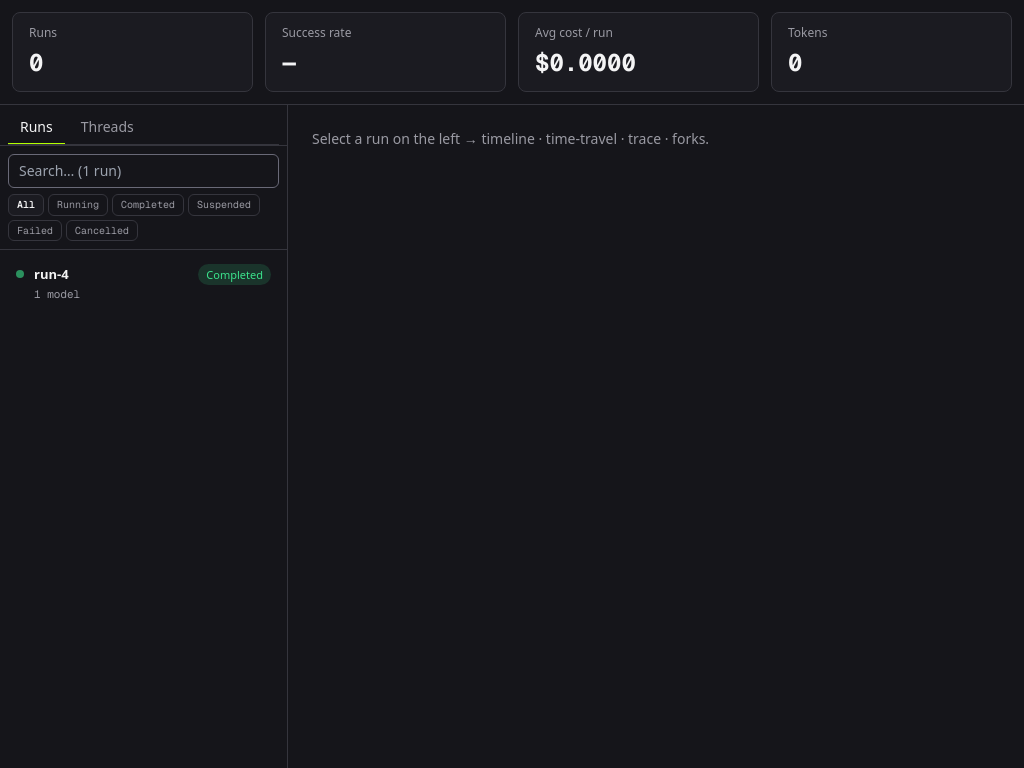
Test: Inspector — Network tab + cost details › API-11: selecting a run does NOT fetch /runs/:id/cost (Cost tab is sourced from /trace)
The width and height of the screenshot is (1024, 768).
Click the text "run-4" at (51, 274), box [34,264,69,284]
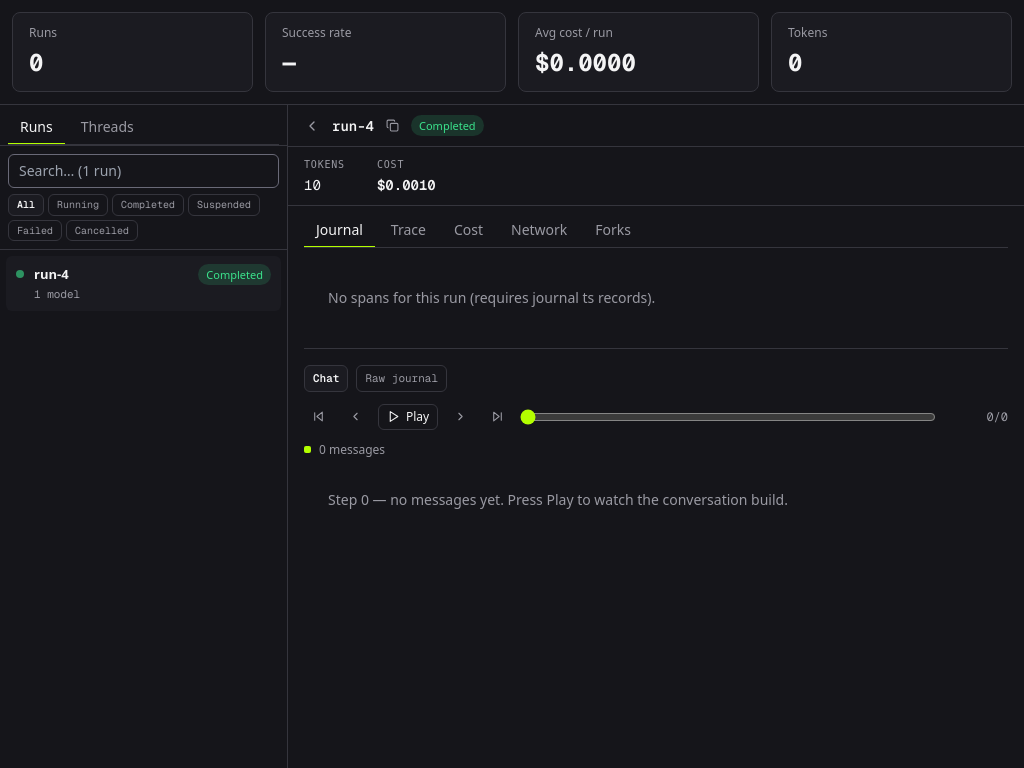
Check: the tab "Cost" is shown, box [442,214,495,248]
